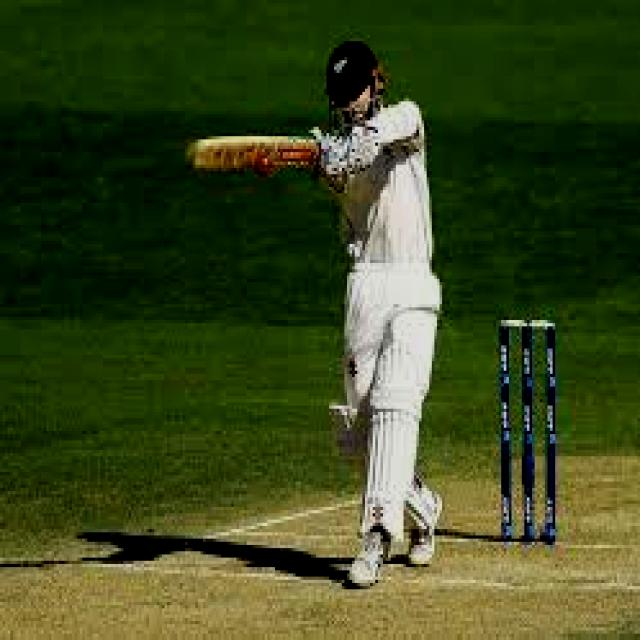toe: (180, 128, 220, 179)
